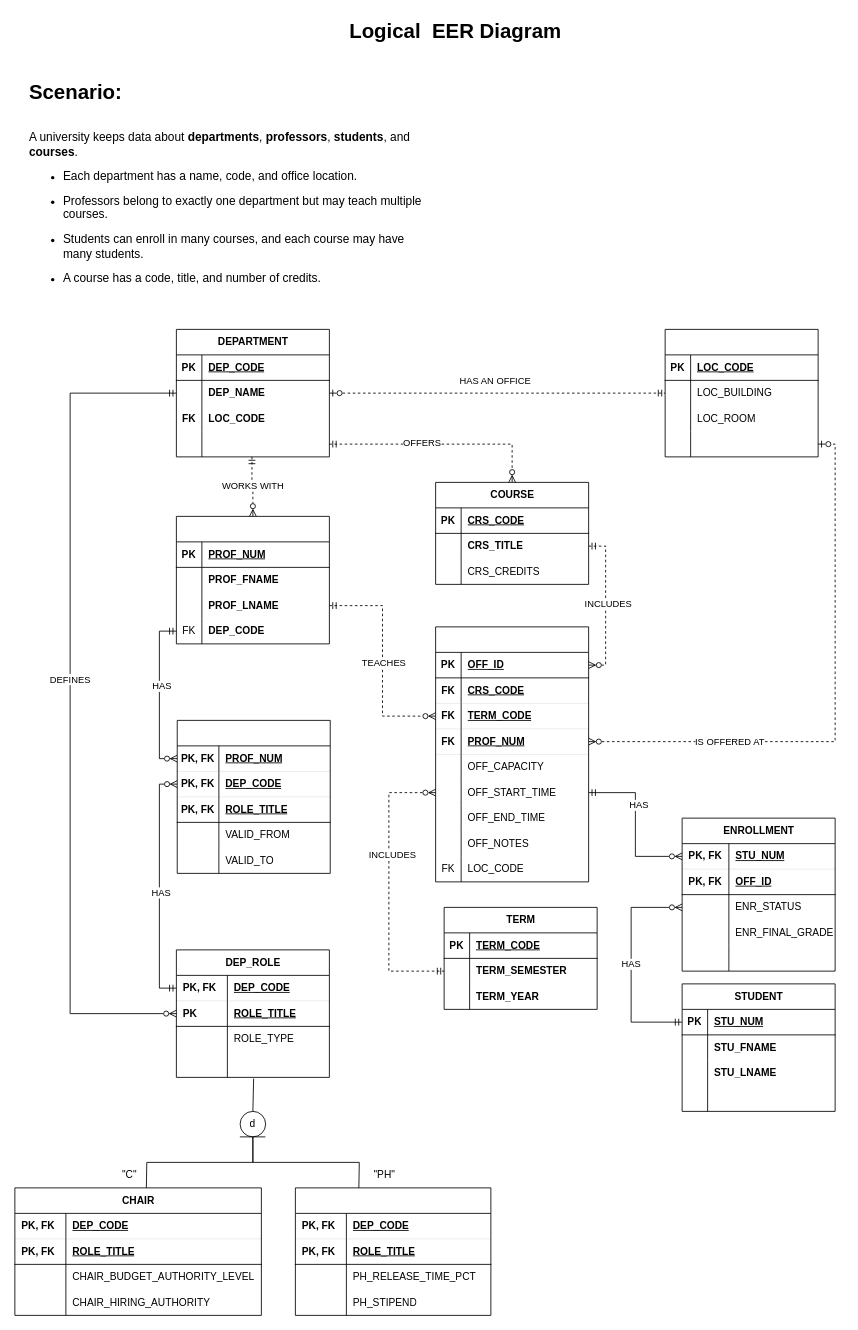
The diagram is 858 pixels wide and 1330 high, and some of its shapes have lost their labels. The box of each missing label's shape, as (x1, y1, x2, y2) in pixels:
COURSE_OFFERING: (435, 626, 589, 882)
LOCATION: (664, 329, 818, 457)
PROFESSOR: (176, 516, 329, 644)
PROG_HEAD: (295, 1187, 491, 1315)
ROLE_ASSIGNMENT: (176, 720, 330, 873)
